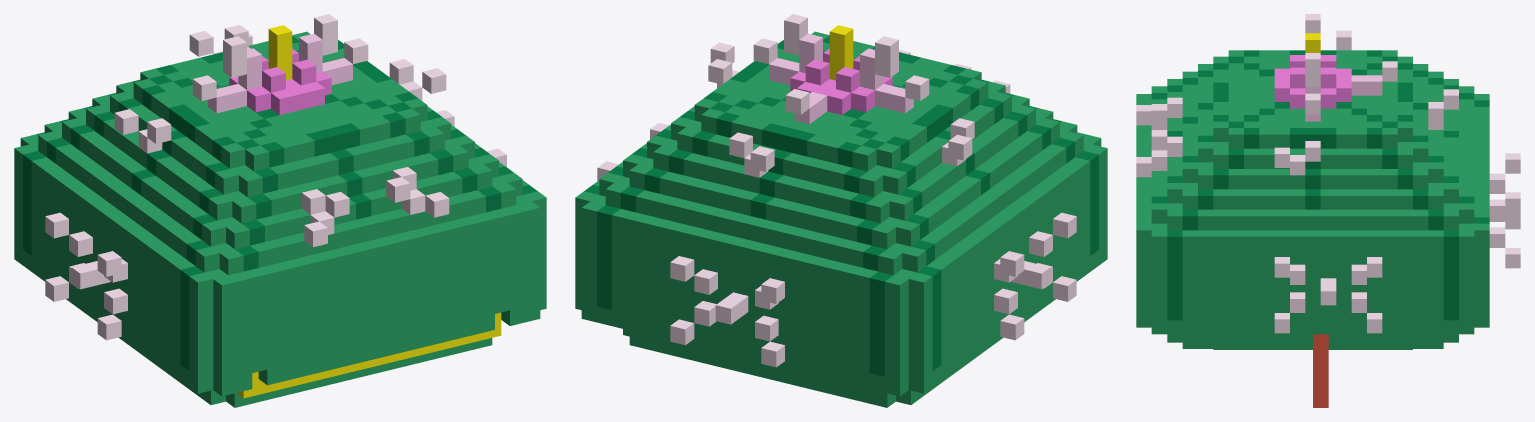
File: peyote.glb
3 views of the same model, side by side, from view 1: azimuth 30°, elevation 25°; view 2: azimuth 150°, elevation 25°; view 3: azimuth 270°, elevation 25° (orthographic). The views are drawn at different scales.
Parts seen in each view (by area): view 1: base; view 2: base; view 3: base, glasses.
Part boxes in pixels (box(x1,y1,x2,y2)): base: box(14, 14, 546, 407); base: box(575, 14, 1107, 407); base: box(1136, 14, 1520, 349); glasses: box(1313, 334, 1328, 407).
Size of the model in its own units: 27 by 22 by 25.
11 materials, 11 textured.
